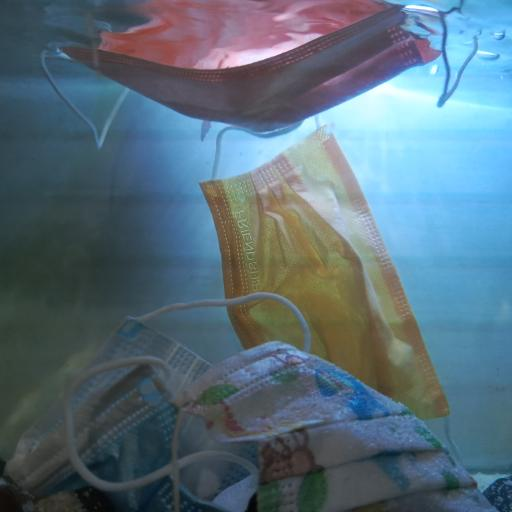mask: (197, 123, 452, 422), (2, 290, 313, 512), (37, 0, 480, 134), (168, 339, 498, 512)
